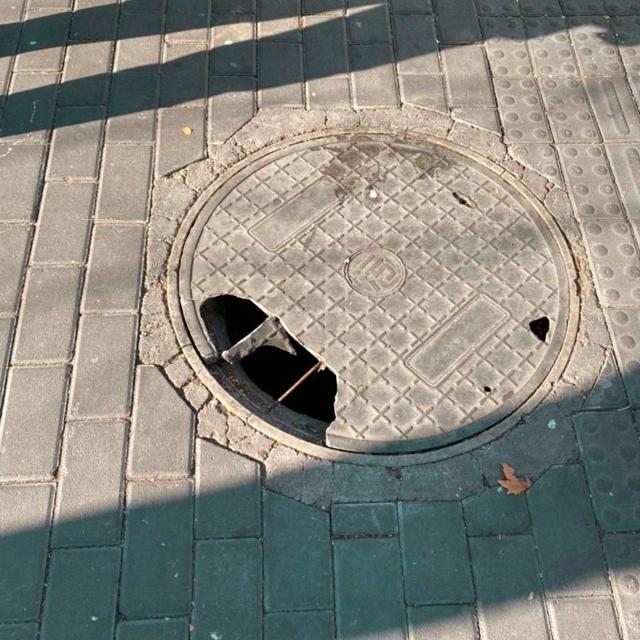broke: (164, 124, 581, 468)
